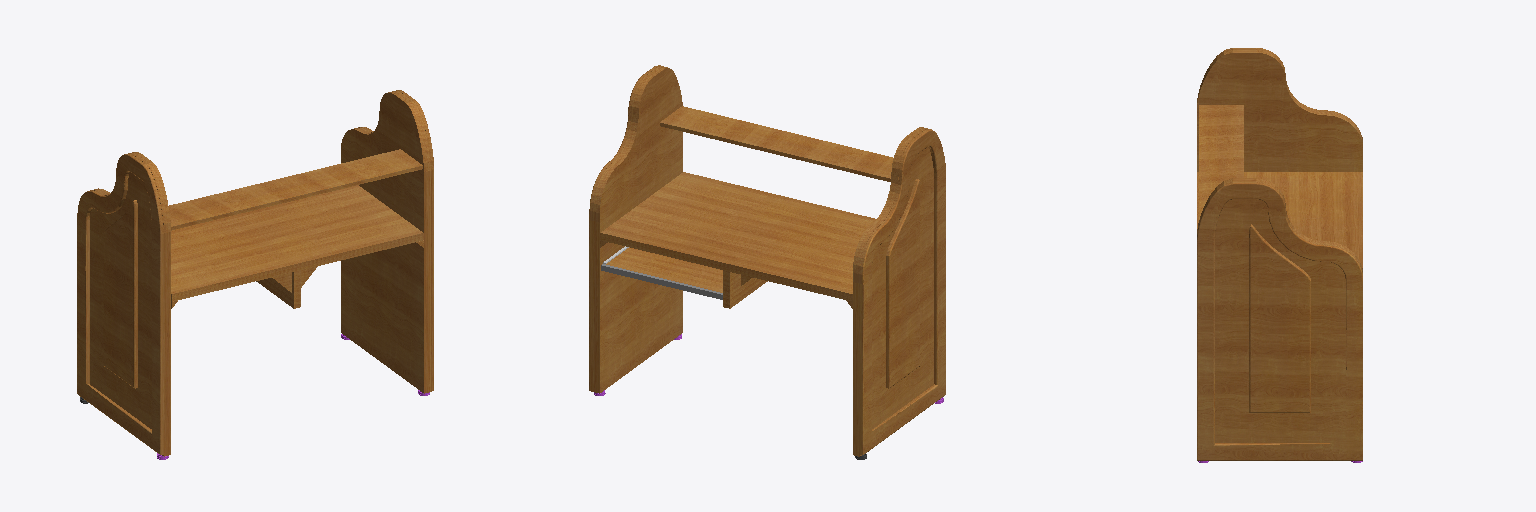
The picture shows the model from 3 angles: view 1: azimuth 30°, elevation 25°; view 2: azimuth 150°, elevation 25°; view 3: azimuth 270°, elevation 25°; orthographic projection.
Parts seen in each view (by area): view 1: Line003; view 2: Line003; view 3: Line003.
Boxes of the visible parts, x1=… form: Line003: x1=77, y1=90, x2=433, y2=459; Line003: x1=589, y1=65, x2=945, y2=459; Line003: x1=1197, y1=48, x2=1362, y2=462.
Bounding box in the file's own units: 7.12 × 7.03 × 3.75.
Materials: 5 (1 with a texture image).